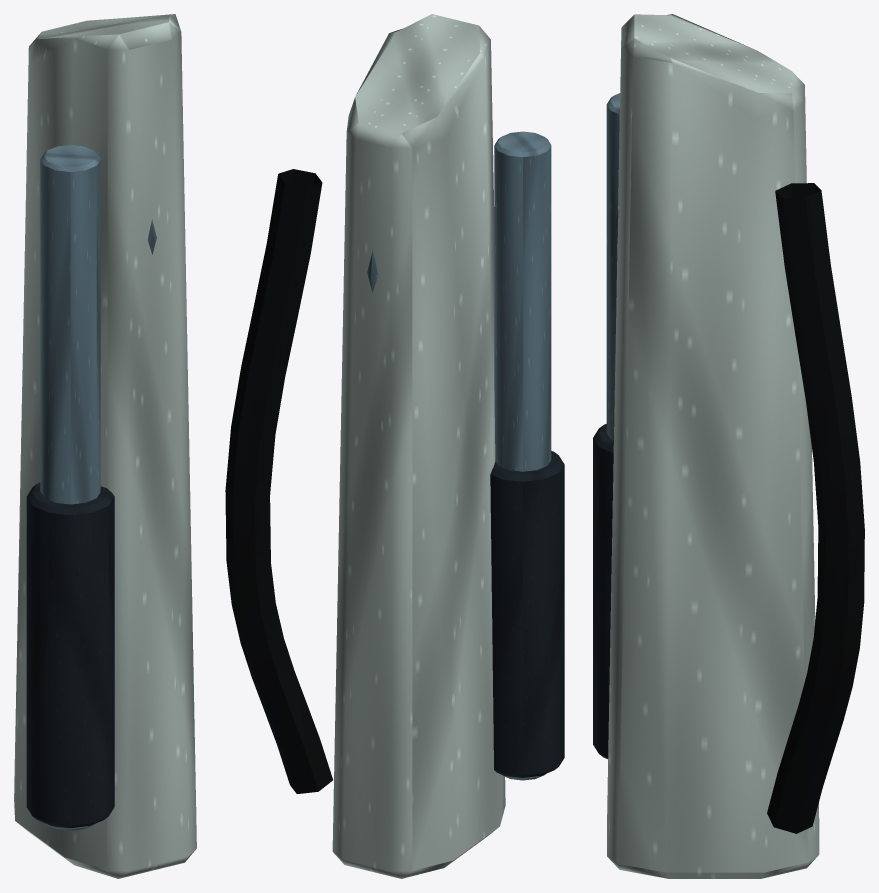
File: Repair_Forearm_V2.fbx
The picture shows the model from 3 angles, left to right: view 1: azimuth 30°, elevation 25°; view 2: azimuth 150°, elevation 25°; view 3: azimuth 270°, elevation 25°; orthographic projection. The views are drawn at different scales.
Parts seen in each view (by area): view 1: Repair_Forearm_V2; view 2: Repair_Forearm_V2; view 3: Repair_Forearm_V2.
Boxes of the visible parts, bbox=[...] form: Repair_Forearm_V2: bbox=[14, 14, 196, 878]; Repair_Forearm_V2: bbox=[225, 14, 564, 878]; Repair_Forearm_V2: bbox=[593, 14, 864, 878].
Size of the model in its own units: 0.3285 by 1.07 by 0.3192.
